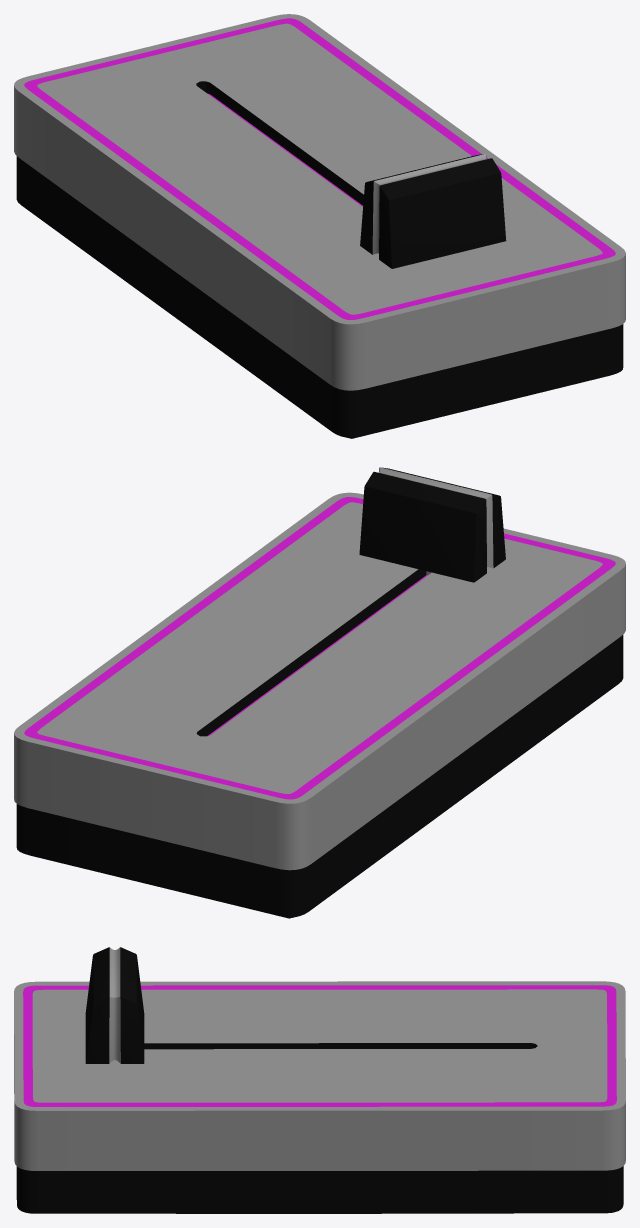
The model's file is m_PAL_Slidder.FBX.
3 renders of one model, top to bottom at view 1: azimuth 30°, elevation 25°; view 2: azimuth 150°, elevation 25°; view 3: azimuth 270°, elevation 25°, orthographic. The views are drawn at different scales.
Visible parts, largest first — view 1: pal_silverBox_Slider, pal_lSlider; view 2: pal_silverBox_Slider, pal_lSlider; view 3: pal_silverBox_Slider, pal_lSlider.
Part boxes in pixels (x1,y1,x2,y2): pal_silverBox_Slider: [14, 14, 625, 438]; pal_lSlider: [360, 154, 506, 268]; pal_silverBox_Slider: [14, 492, 625, 918]; pal_lSlider: [359, 467, 505, 582]; pal_silverBox_Slider: [14, 981, 625, 1213]; pal_lSlider: [85, 947, 144, 1063].
Size of the model in its own units: 1.97 by 1.31 by 3.94.
